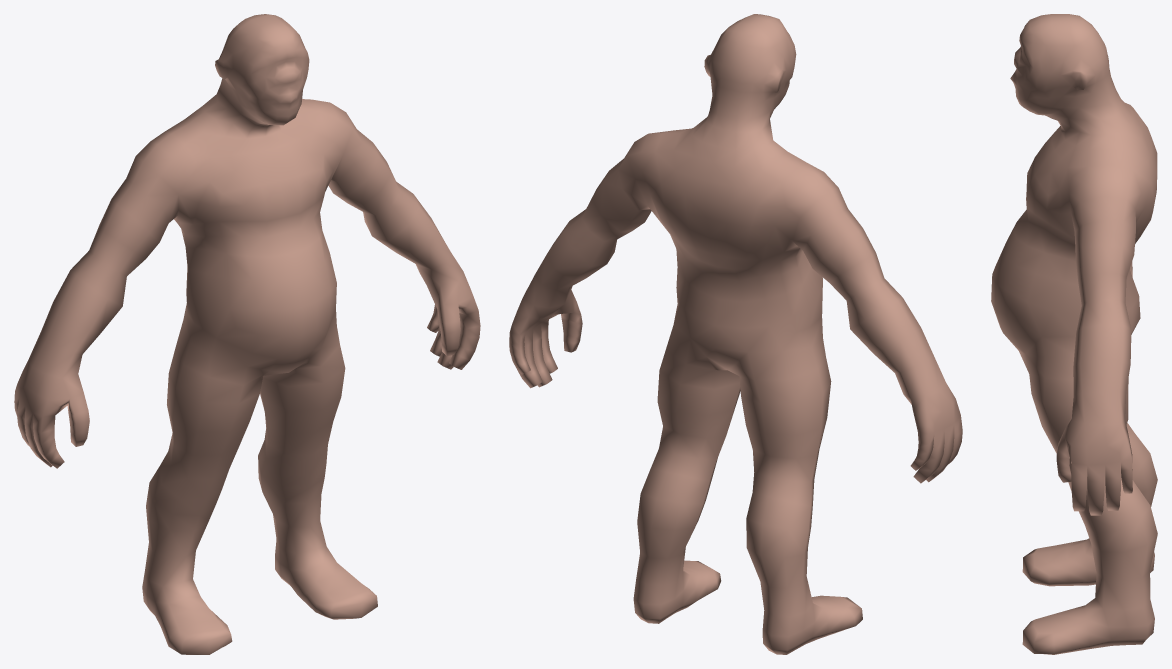
File: ciclope.fbx
The picture shows the model from 3 angles, left to right: view 1: azimuth 30°, elevation 25°; view 2: azimuth 150°, elevation 25°; view 3: azimuth 270°, elevation 25°; orthographic projection. The views are drawn at different scales.
Visible parts, largest first — view 1: MonsterCyclops:cyclop; view 2: MonsterCyclops:cyclop; view 3: MonsterCyclops:cyclop.
Boxes of the visible parts, x1=… form: MonsterCyclops:cyclop: x1=14, y1=14, x2=480, y2=654; MonsterCyclops:cyclop: x1=509, y1=14, x2=962, y2=654; MonsterCyclops:cyclop: x1=991, y1=14, x2=1157, y2=654.
Bounding box in the file's own units: 148 × 195 × 49.61.
